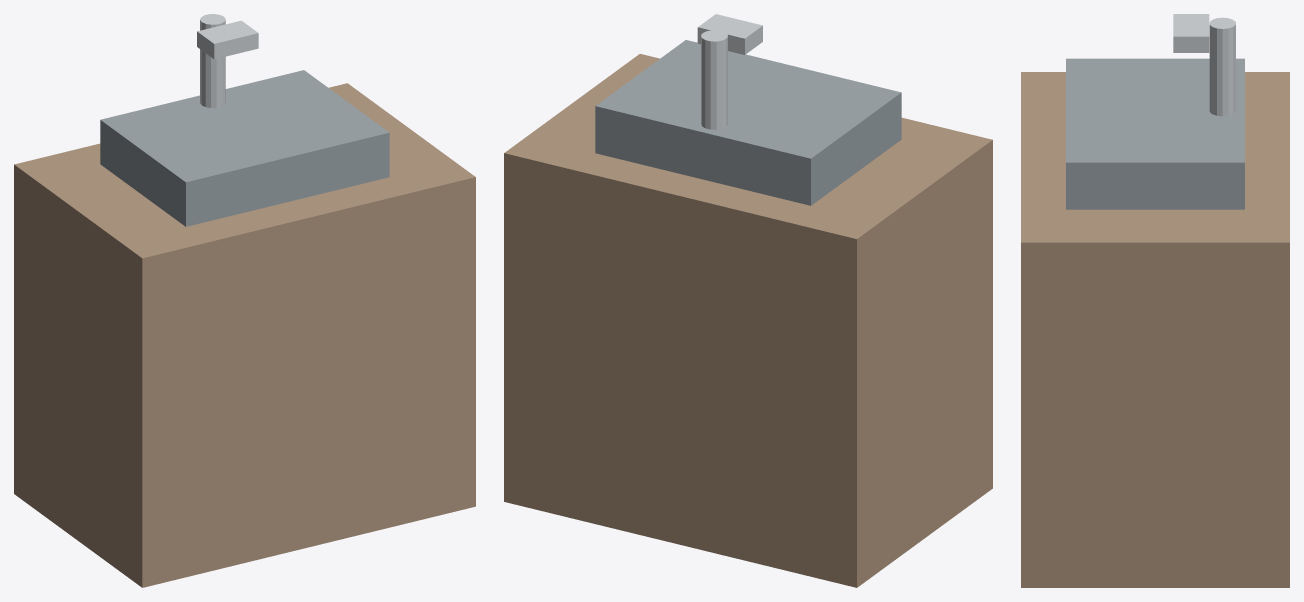
The model's file is kitchen_sink.glb.
3 views of the same model, side by side, from view 1: azimuth 30°, elevation 25°; view 2: azimuth 150°, elevation 25°; view 3: azimuth 270°, elevation 25° (orthographic). The views are drawn at different scales.
Visible parts, largest first — view 1: p000, p001, p004, p003; view 2: p000, p001, p003, p004; view 3: p000, p001, p003, p004.
Part boxes in pixels (x1,y1,x2,y2): p000: [14, 83, 475, 587]; p001: [100, 70, 389, 226]; p004: [197, 20, 258, 59]; p003: [200, 14, 225, 107]; p000: [504, 54, 992, 587]; p001: [595, 40, 901, 205]; p003: [701, 30, 727, 129]; p004: [697, 14, 762, 54]; p000: [1021, 72, 1289, 587]; p001: [1066, 58, 1244, 209]; p003: [1209, 17, 1235, 116]; p004: [1173, 14, 1209, 52].
Bounding box in the file's own units: 0.9 × 1.18 × 0.6.
